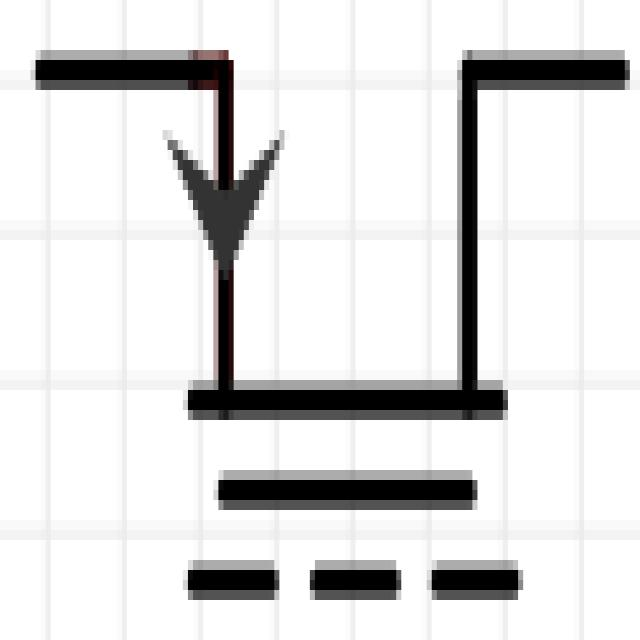pmos: (36, 14, 620, 629)
